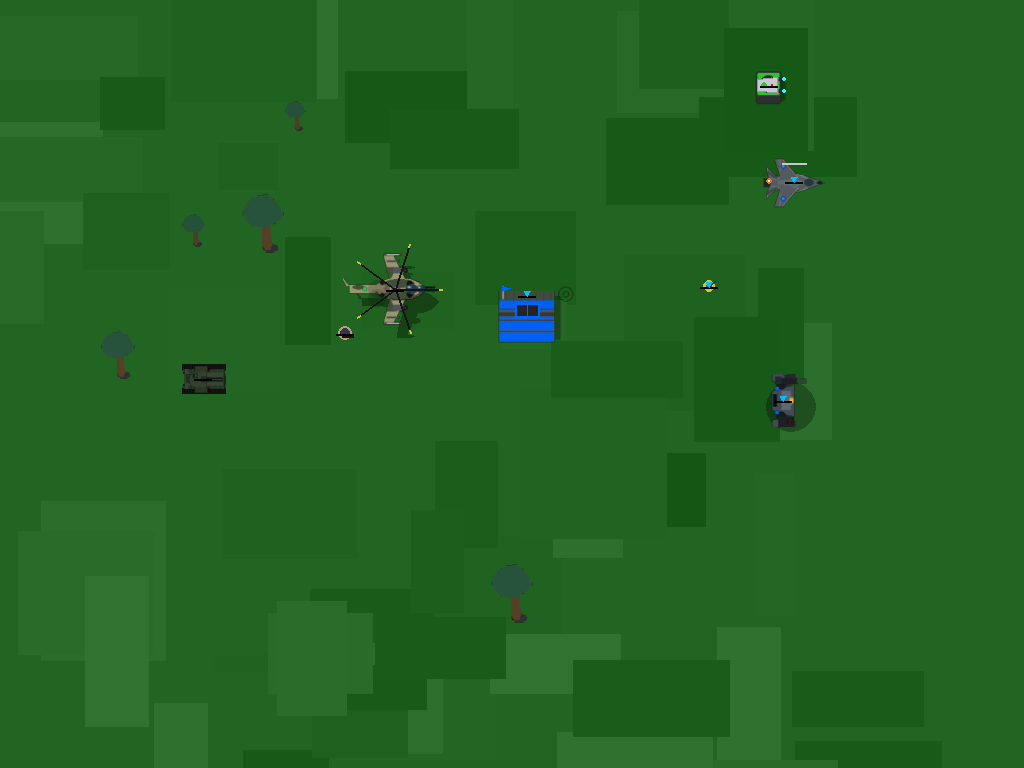APC_rus: (490, 258, 564, 332)
Barracks: (367, 261, 422, 316)
Bastion: (762, 379, 804, 421)
HIMARS: (775, 163, 804, 200)
Helicopter: (747, 63, 790, 106)
M1A2_chn: (331, 319, 359, 347)
Mi24: (184, 358, 223, 397)
Rifleman: (695, 273, 722, 300)
